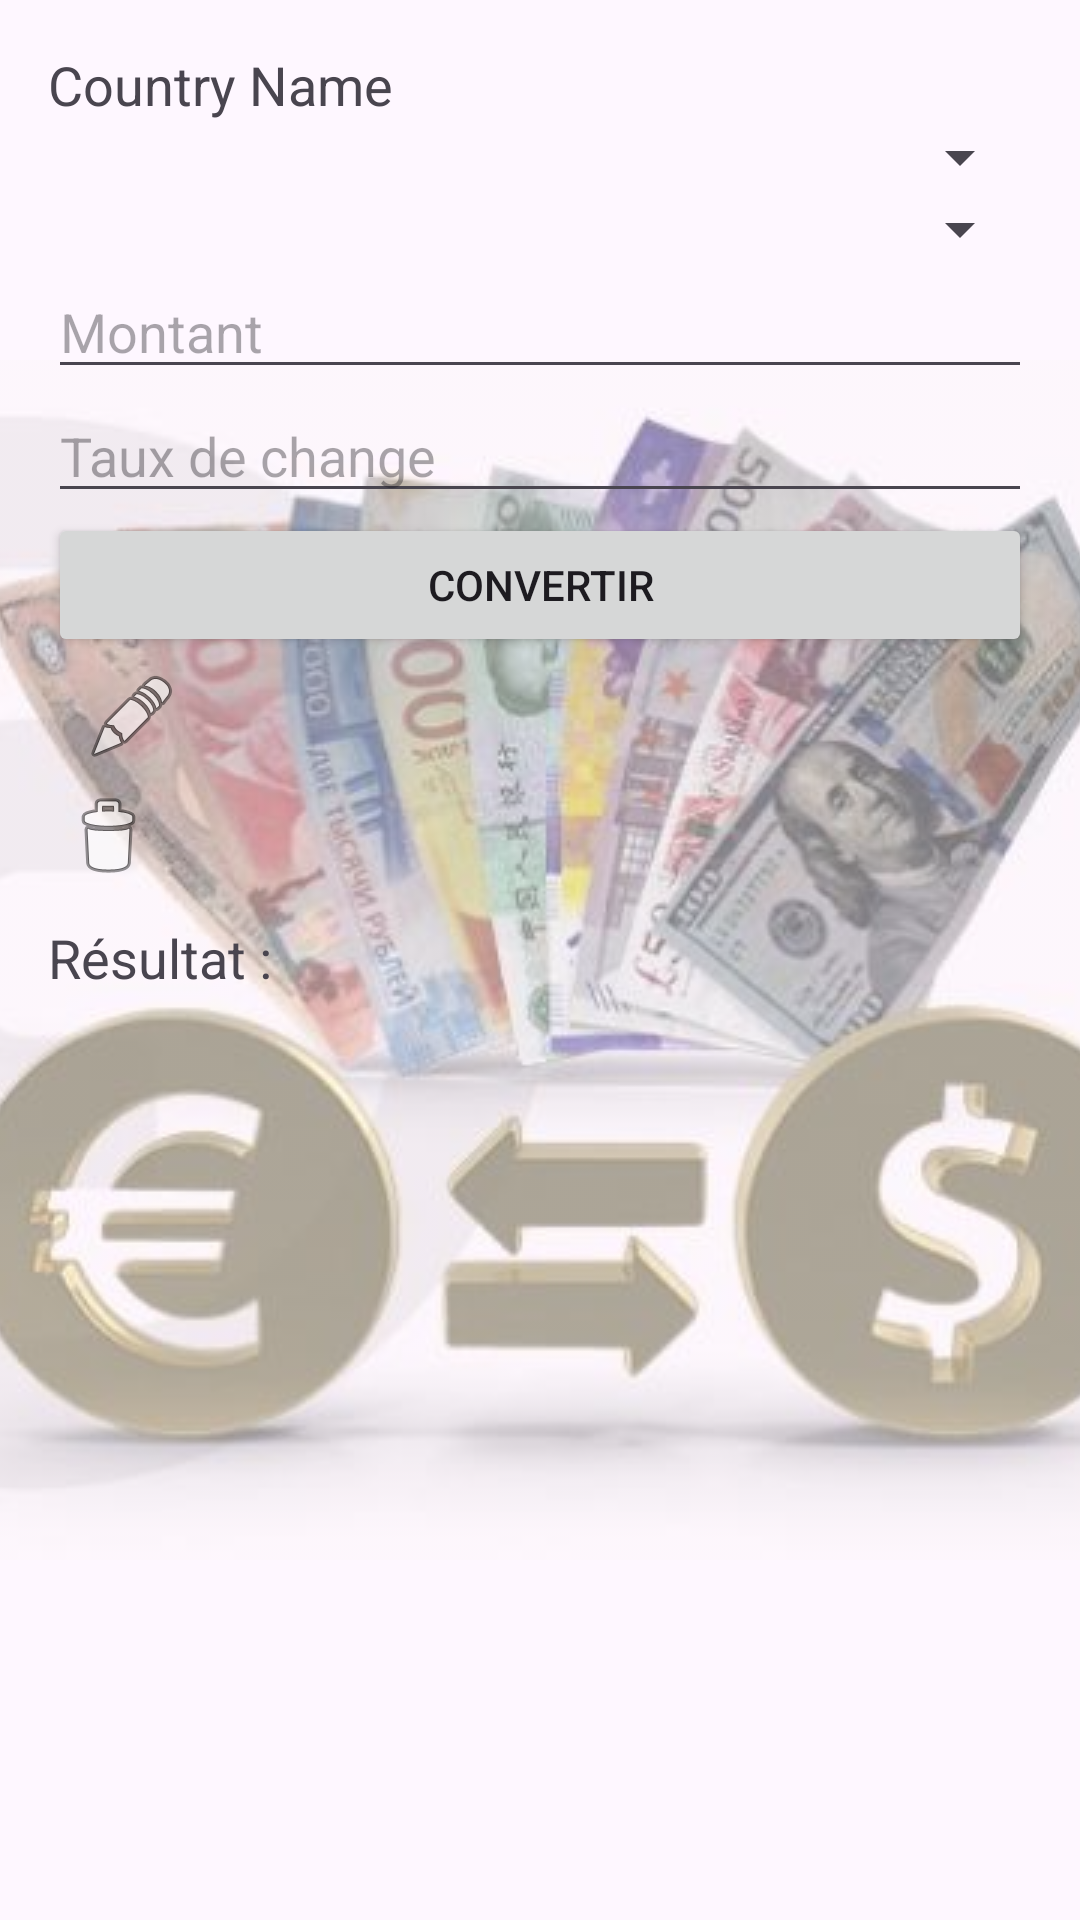

Icon click points for this 1080 x 1920 phone screenshot, format (x=x, y=y):
Modifier: (x=132, y=717)
Supprimer: (x=108, y=837)
